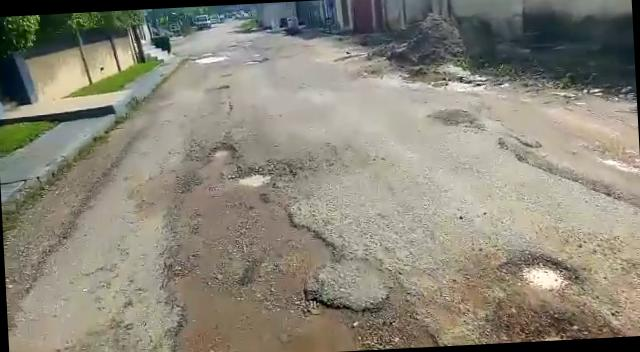pothole: (483, 294, 632, 344), (498, 246, 583, 294), (230, 162, 290, 194), (202, 140, 240, 162), (191, 53, 230, 64)
